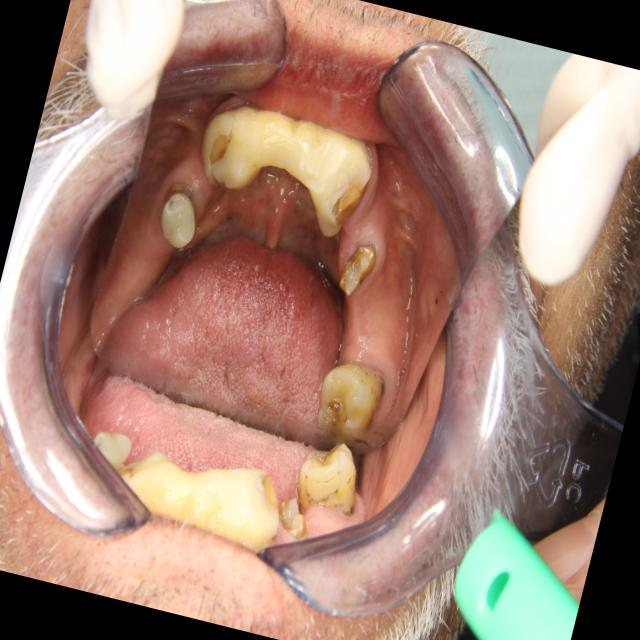tooth: (300, 352, 394, 461), (313, 129, 382, 251), (296, 112, 354, 224), (208, 99, 272, 196), (188, 100, 249, 196), (146, 172, 209, 259), (246, 96, 304, 176), (276, 109, 327, 192), (331, 234, 384, 302)
